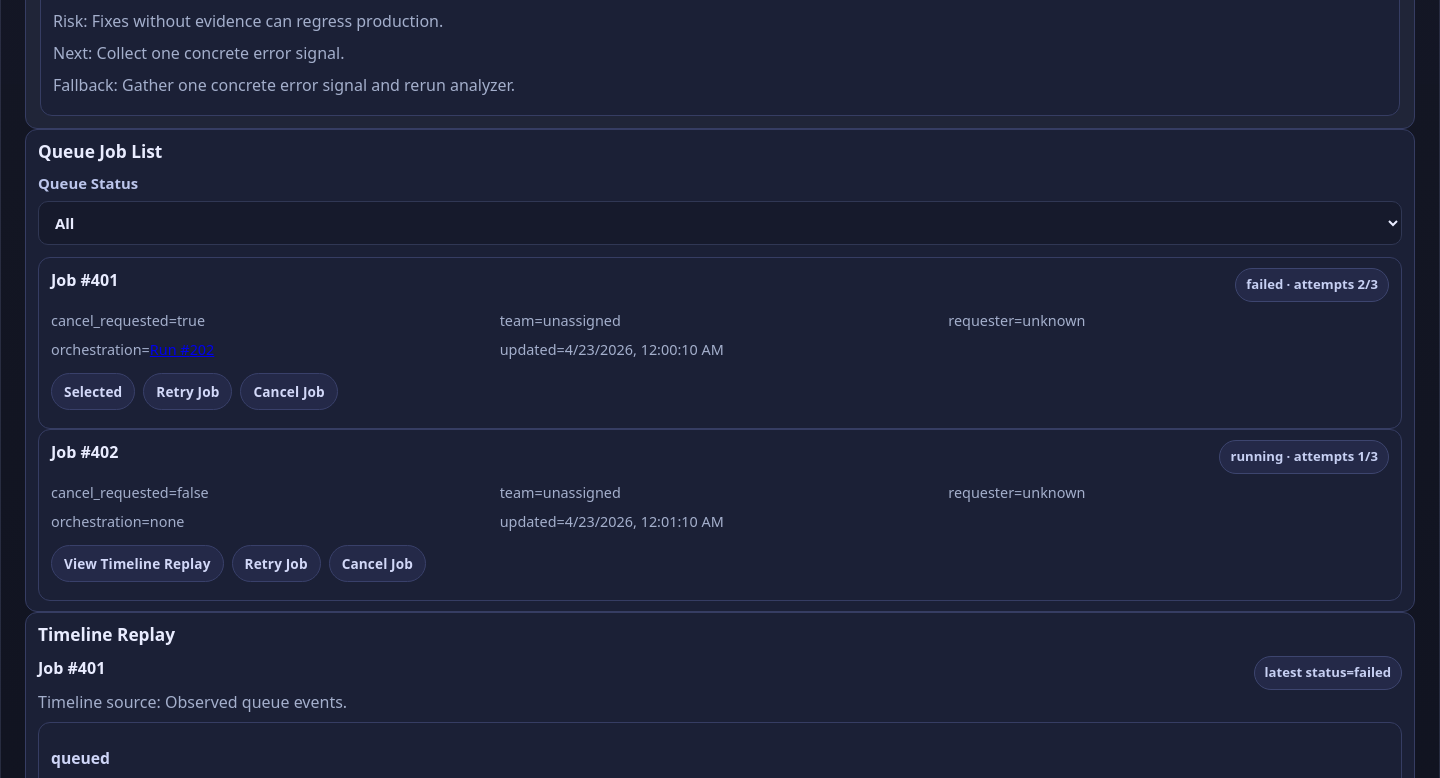
Scenario: orchestration workflow › renders orchestration history with filters
(page scrolled)
Check: the text "Fallback: Gather one concrete error signal" is shown, box x1=53 y1=74 x2=515 y2=96
Check: the heading "Queue Job List" is shown, box x1=38 y1=140 x2=162 y2=163
Click the button "Retry Job" below "true" at x=188, y=391, box x1=143 y1=373 x2=232 y2=410
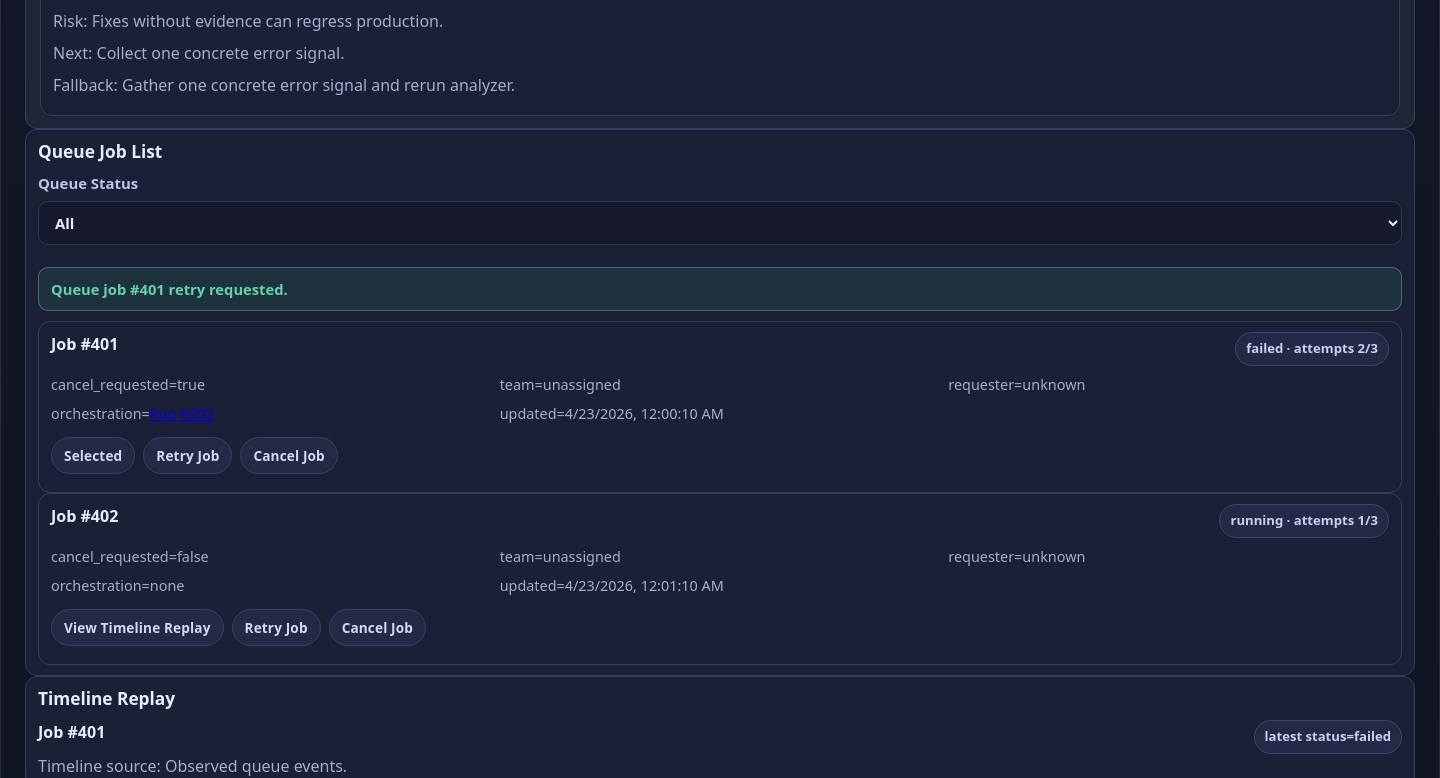
Check: the text "Queue job #401 retry requested." is shown, box x1=38 y1=267 x2=1402 y2=311
Click the button "Cancel Job" below "none" at x=377, y=627, box x1=329 y1=609 x2=426 y2=646
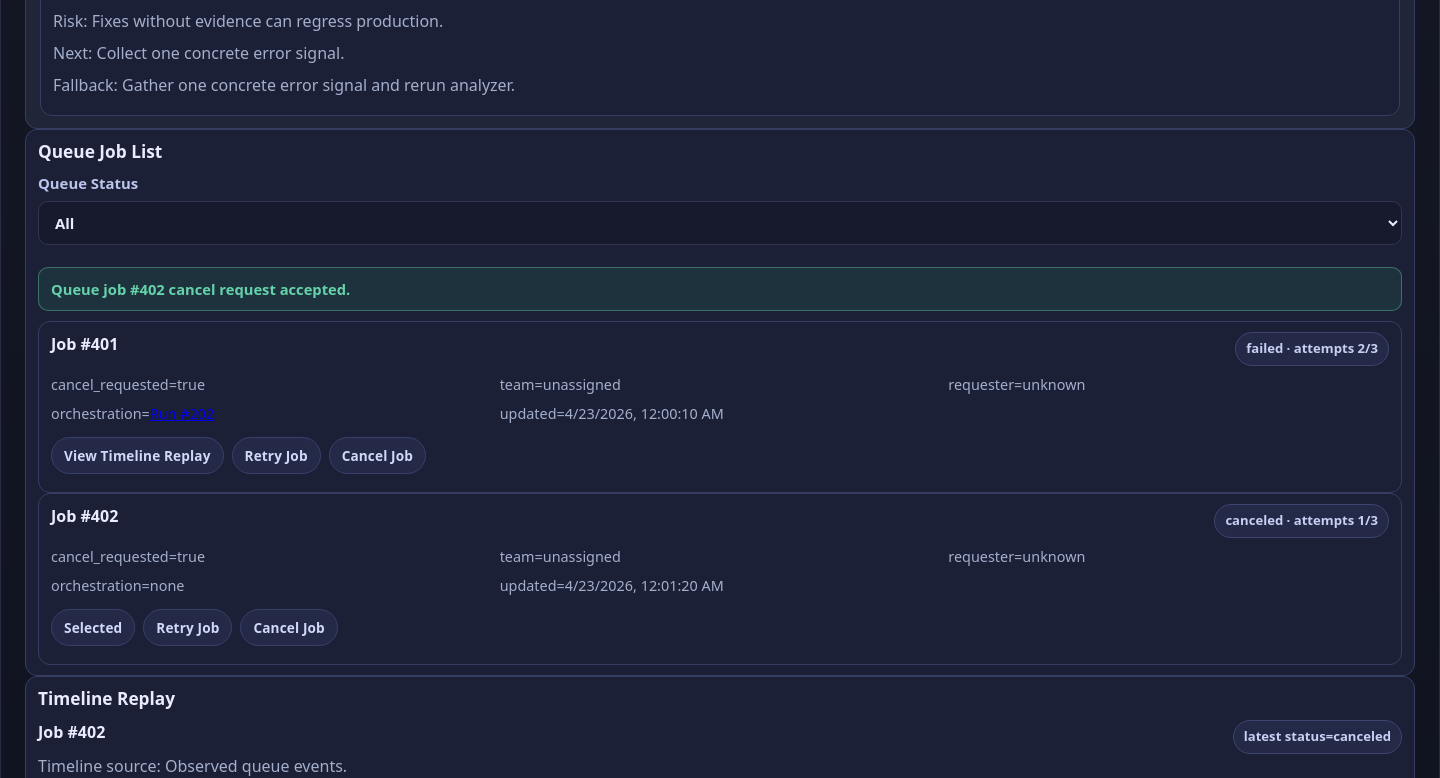
Check: the text "Queue job #402 cancel request accepted." is shown, box x1=38 y1=267 x2=1402 y2=311
Check: the text "latest status=canceled" is shown, box x1=1233 y1=720 x2=1402 y2=754
